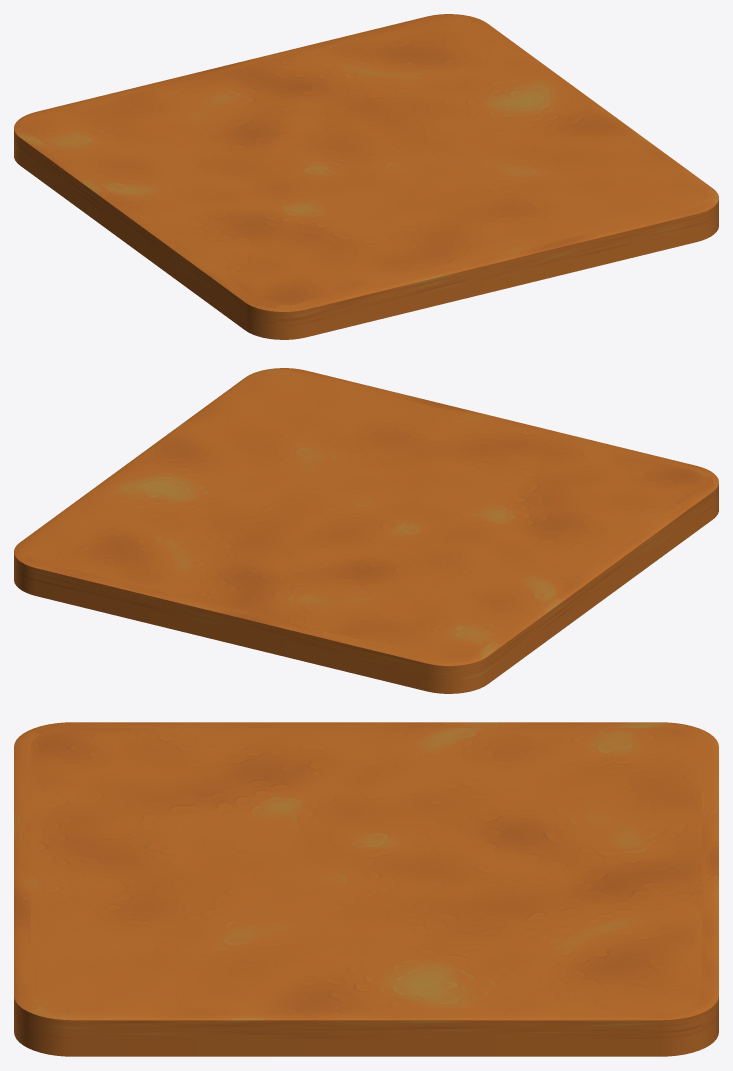
Rendered from desert_tile_1 (1).fbx.
3 renders of one model, top to bottom at view 1: azimuth 30°, elevation 25°; view 2: azimuth 150°, elevation 25°; view 3: azimuth 270°, elevation 25°, orthographic. The views are drawn at different scales.
Parts seen in each view (by area): view 1: main desert; view 2: main desert; view 3: main desert.
Boxes of the visible parts, bbox=[...] form: main desert: bbox=[14, 14, 718, 339]; main desert: bbox=[14, 368, 718, 693]; main desert: bbox=[14, 722, 718, 1056].
Bounding box in the file's own units: 846 × 53.22 × 846.
